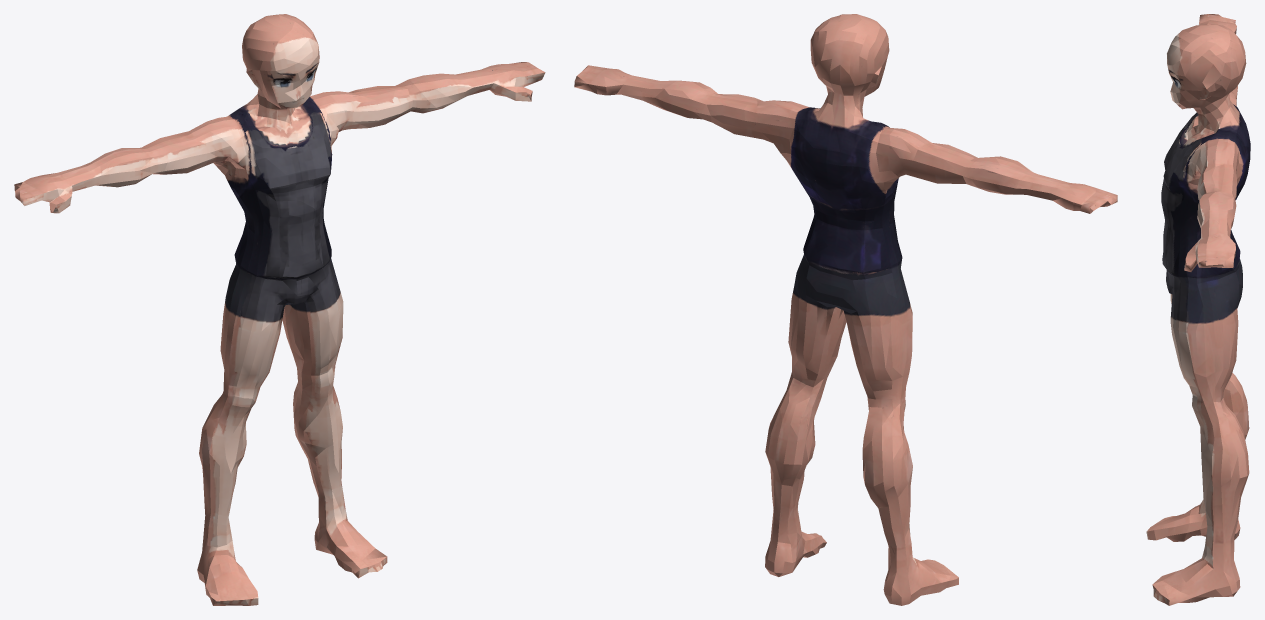
Rendered from generated_3d.glb.
3 renders of one model, left to right at view 1: azimuth 30°, elevation 25°; view 2: azimuth 150°, elevation 25°; view 3: azimuth 270°, elevation 25°, orthographic. The views are drawn at different scales.
Parts seen in each view (by area): view 1: LOW_Final; view 2: LOW_Final; view 3: LOW_Final.
Part boxes in pixels (bbox=[...]): LOW_Final: bbox=[14, 14, 545, 605]; LOW_Final: bbox=[574, 14, 1117, 605]; LOW_Final: bbox=[1146, 14, 1250, 605].
Size of the model in its own units: 0.9675 by 0.9766 by 0.1712.
1 material, 1 textured.
